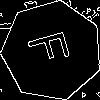F: (27, 26, 79, 68)
